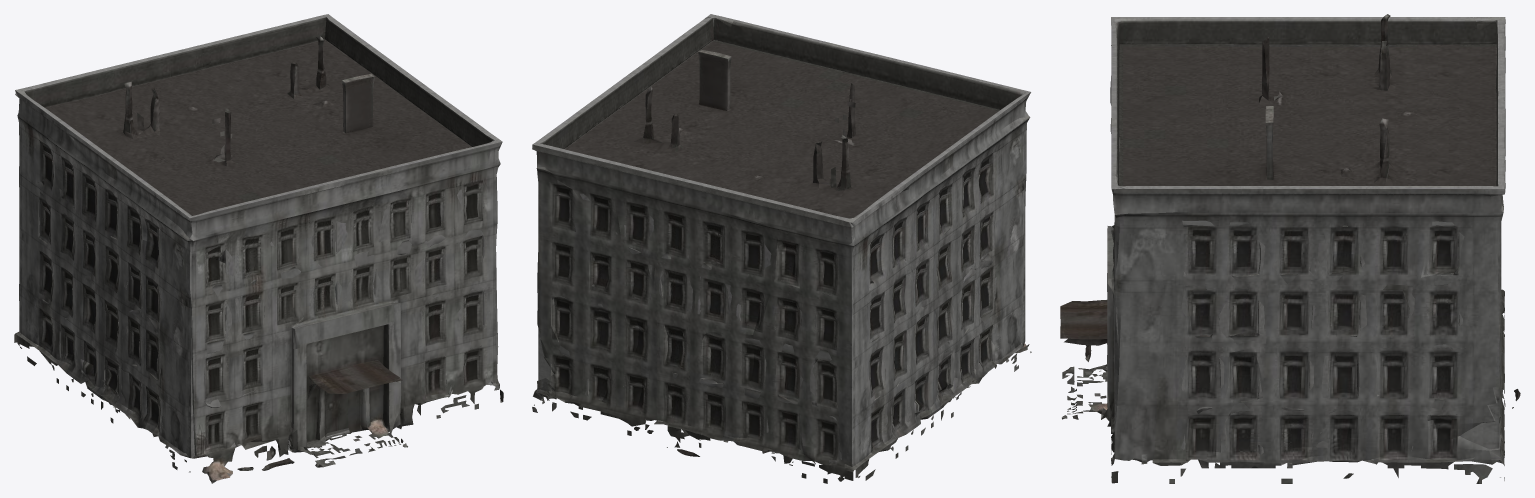
File: school4by4-v1.glb
3 renders of one model, left to right at view 1: azimuth 30°, elevation 25°; view 2: azimuth 150°, elevation 25°; view 3: azimuth 270°, elevation 25°, orthographic. The views are drawn at different scales.
Visible parts, largest first — view 1: Mesh0; view 2: Mesh0; view 3: Mesh0.
Part boxes in pixels (left/top/right/bottom): Mesh0: left=14, top=14, right=503, bottom=483; Mesh0: left=532, top=14, right=1031, bottom=483; Mesh0: left=1060, top=14, right=1520, bottom=483.
Bounding box in the file's own units: 1.68 × 1.51 × 1.88.
1 material, 1 textured.
